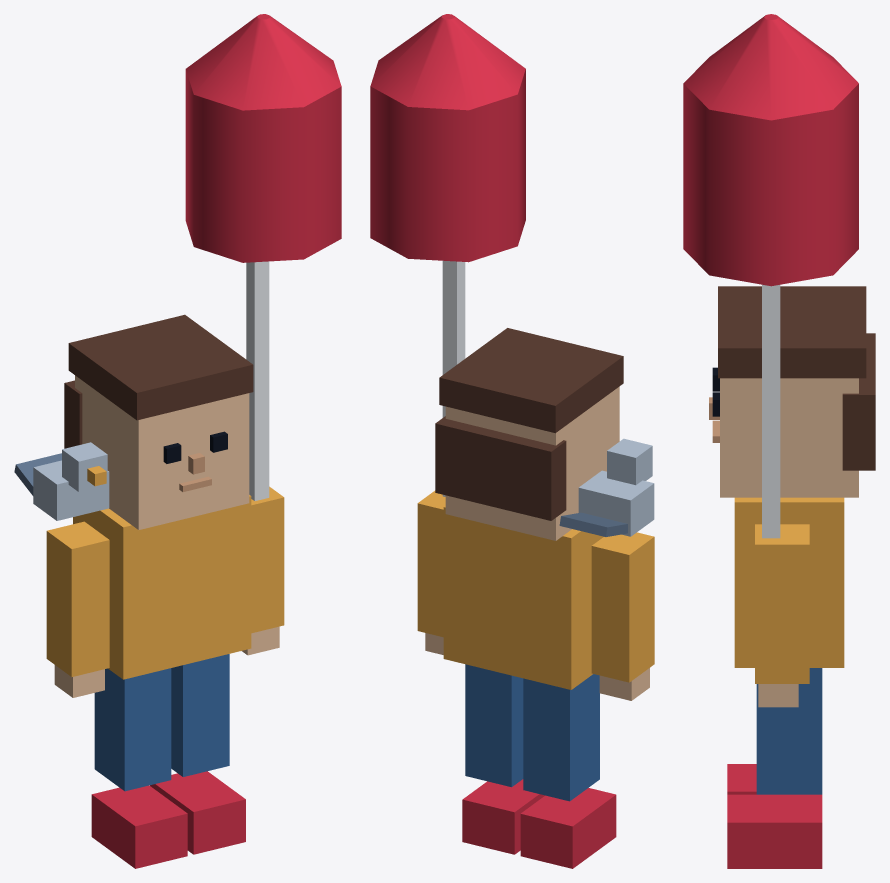
Rendered from npc_kid.glb.
3 views of the same model, side by side, from view 1: azimuth 30°, elevation 25°; view 2: azimuth 150°, elevation 25°; view 3: azimuth 270°, elevation 25° (orthographic). The views are drawn at different scales.
Parts seen in each view (by area): view 1: npc_kid; view 2: npc_kid; view 3: npc_kid.
Part boxes in pixels (<box>): npc_kid: <box>14,14,341,868</box>; npc_kid: <box>370,14,654,868</box>; npc_kid: <box>683,14,875,868</box>.
Size of the model in its own units: 0.9501 by 2.63 by 0.5249.
1 material, 1 textured.
